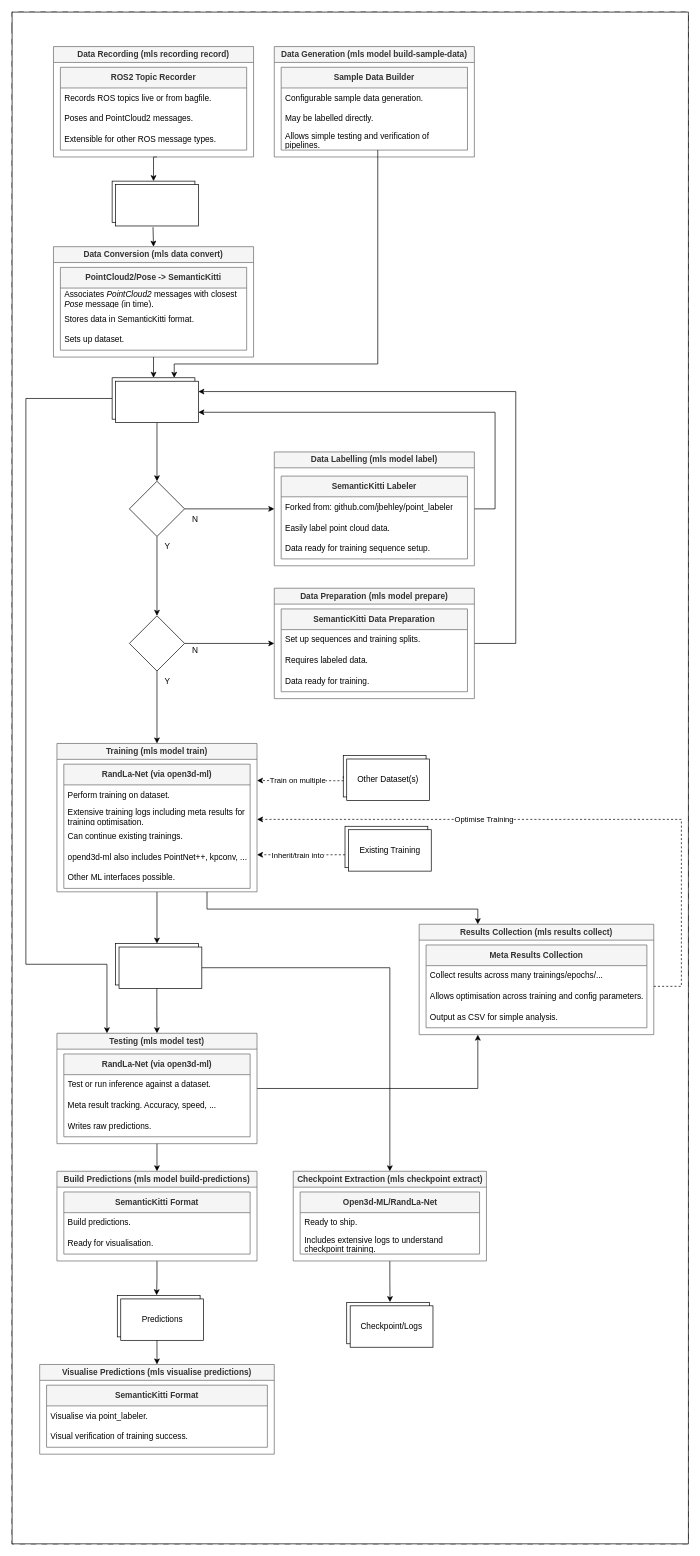
Image size: 700x1556. Some labels were removed from this diagram. The centre of each missing label's shape, as x and y in pixels:
Dataset: the point at 156,402
labelled?: the point at 157,508
prepared?: the point at 157,643
Recording: the point at 156,205
Training: the point at 160,967
